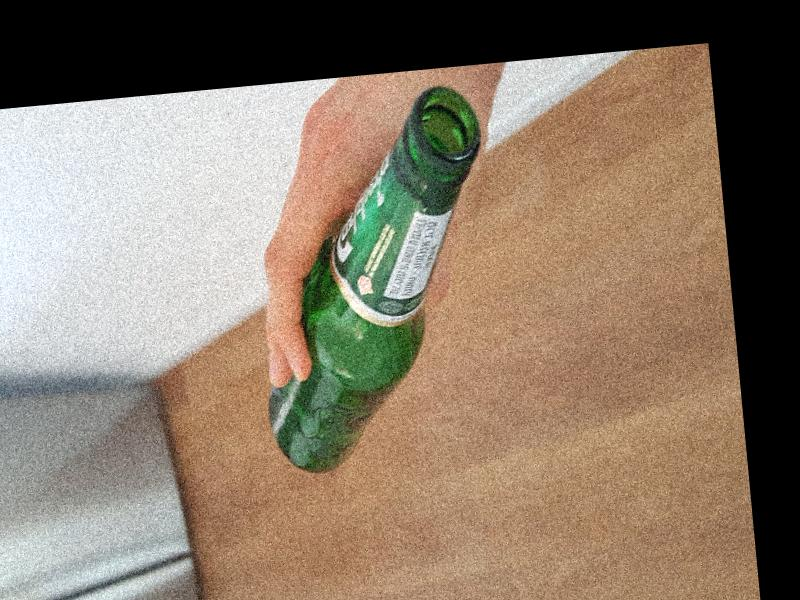Beer: (241, 81, 511, 477)
